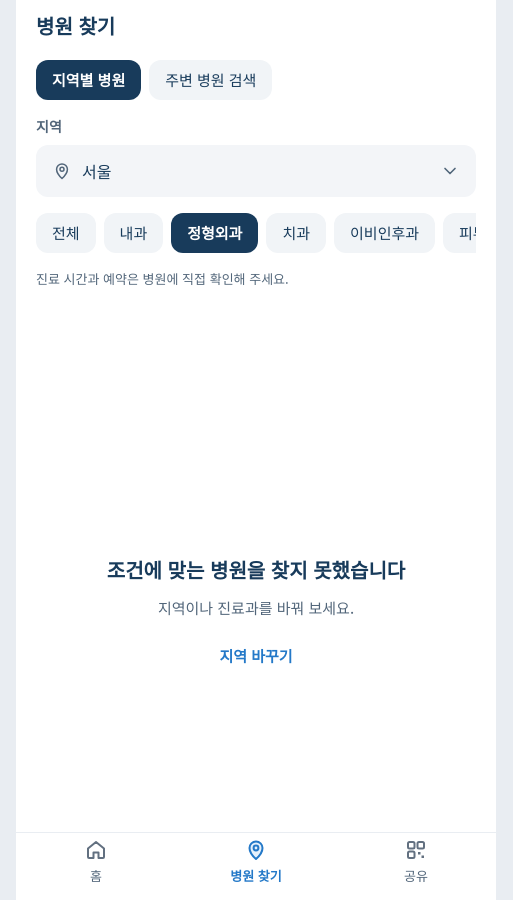
Test: 위치 권한 거부를 표시하고 검색 요청을 보내지 않는다
Expected: the text "조건에 맞는 병원을 찾지 못했습니다" is shown, [107,556,405,584]
Click the radio button labelled "주변 병원 검색": {"x": 211, "y": 80} [149,60,272,100]
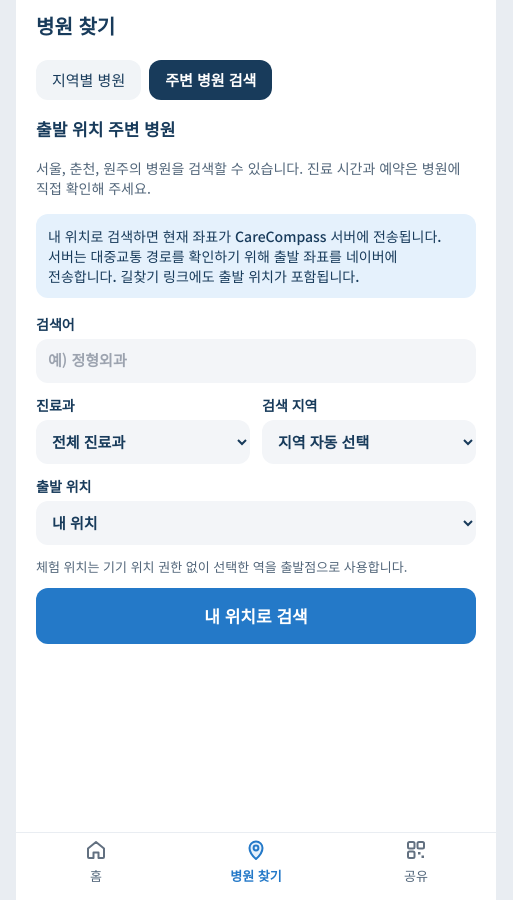
In the search field labelled "검색어": {"x": 256, "y": 360} [36,338,476,382], type "정형외과"
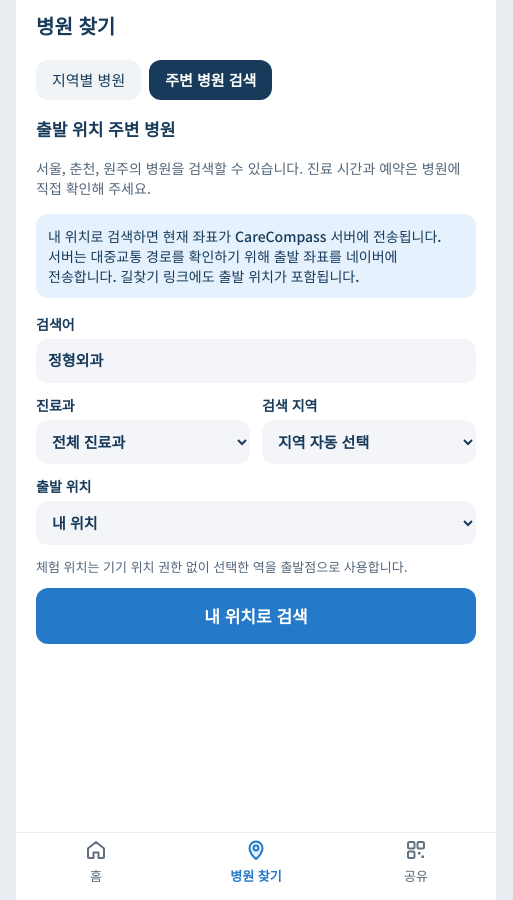
Click the button "내 위치로 검색": {"x": 256, "y": 616} [36,588,476,644]
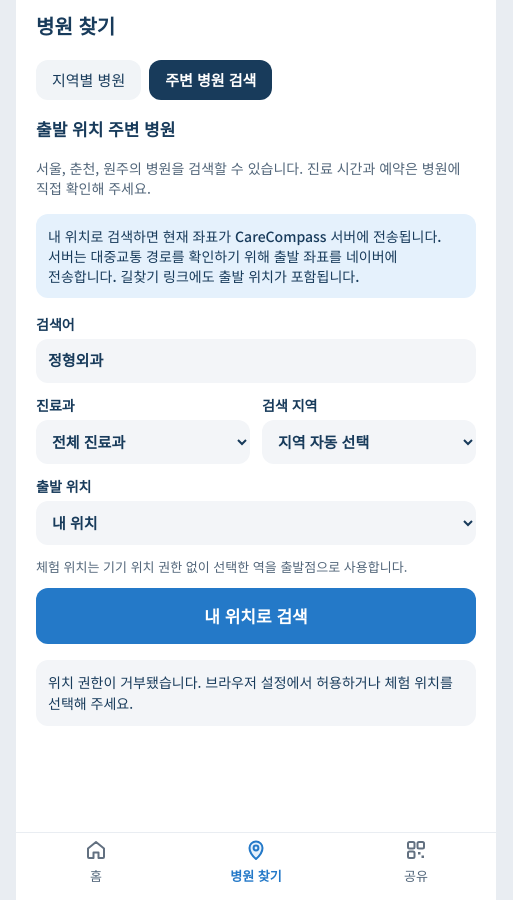
Expected: the message shows "위치 권한이 거부됐습니다", [48,672,453,713]
